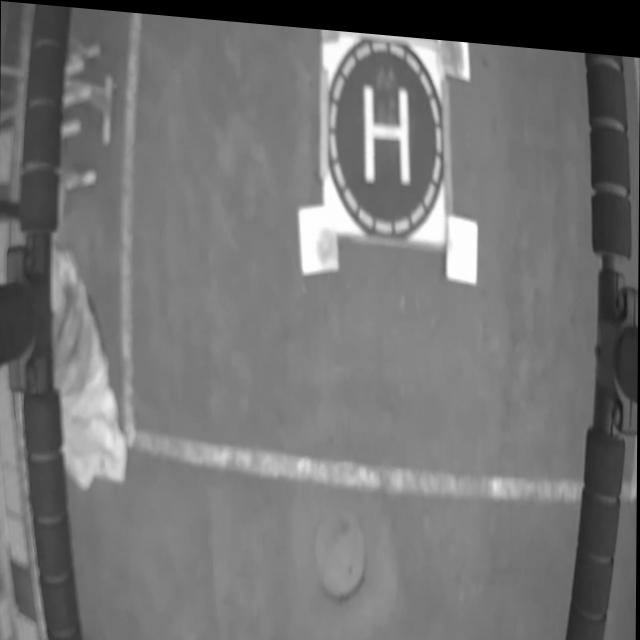Helipad: (361, 75, 410, 177)
